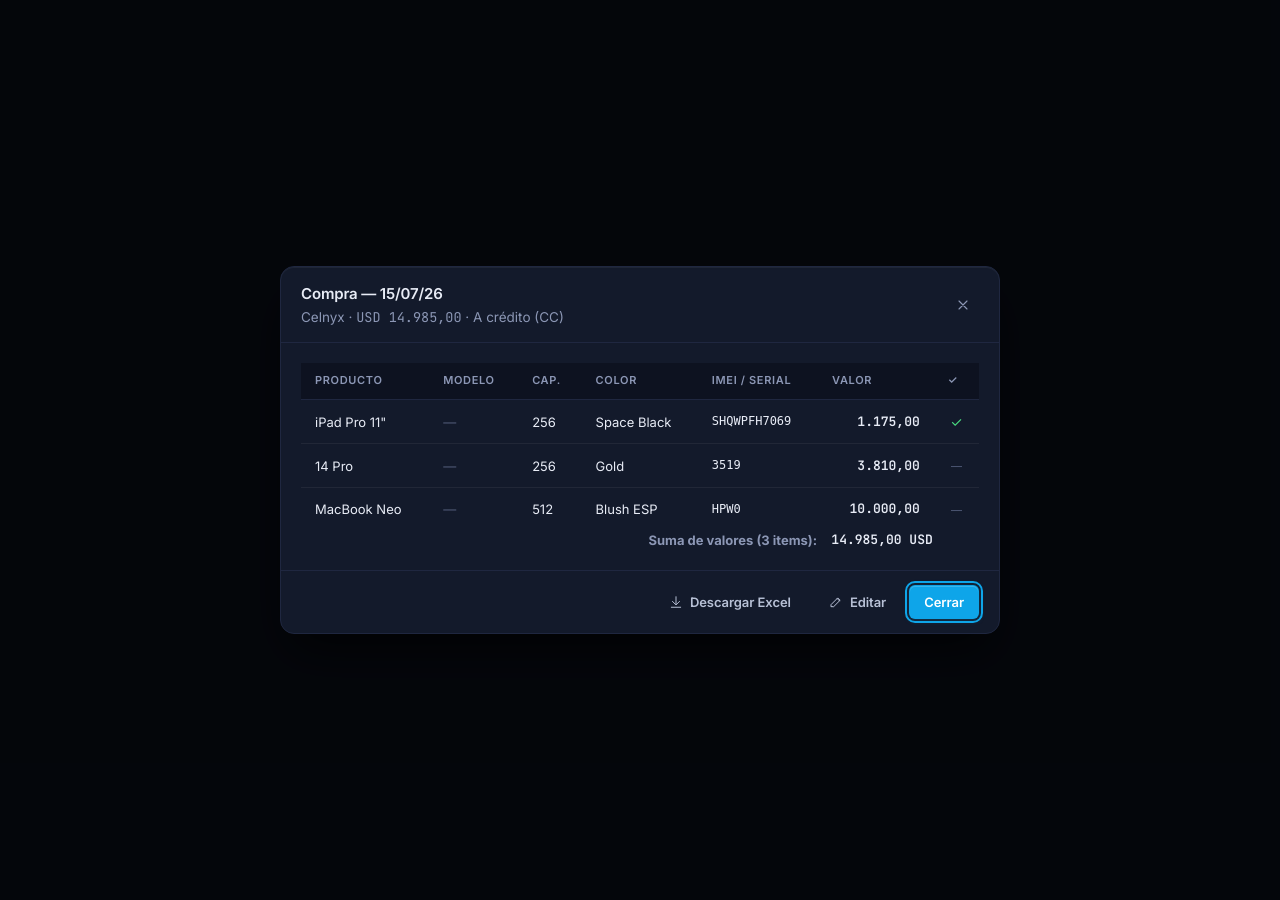
modo edit — activación › click "Editar" muestra form editable con inputs por item
This screenshot has width=1280, height=900.
Click the button "Editar" at (858,602), box [814, 585, 901, 619]
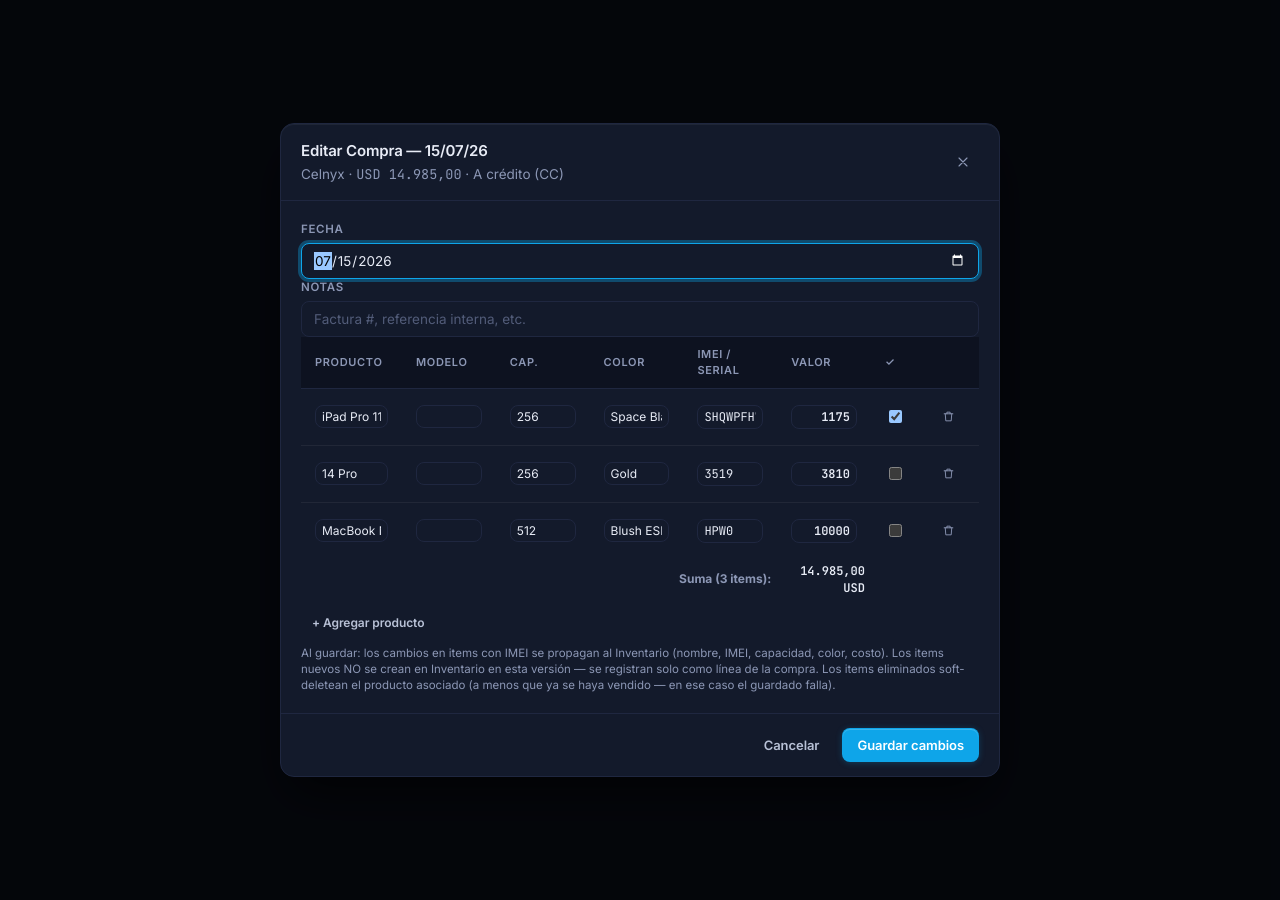
Result: the field labelled "Notas" is shown at [301, 301, 979, 337]
Result: the button "Guardar cambios" is shown at [842, 728, 979, 762]
Result: the button "Cancelar" is shown at [749, 728, 834, 762]
